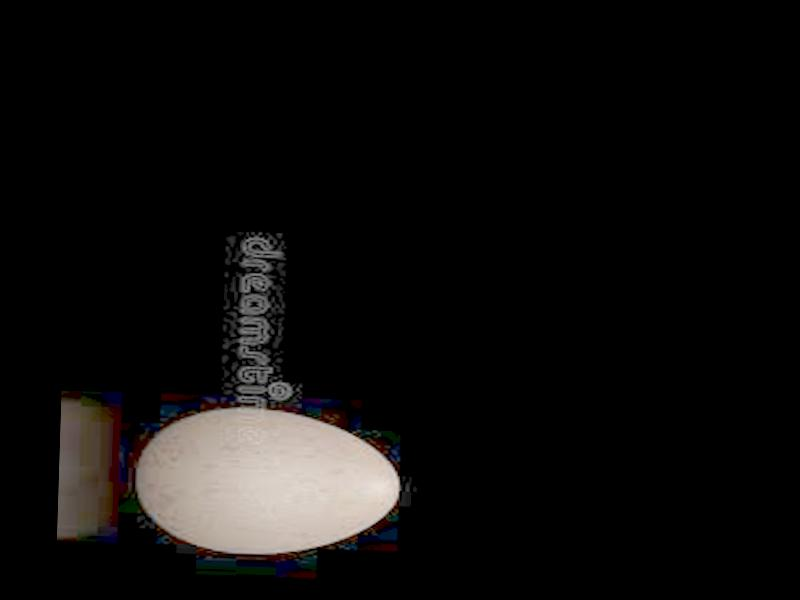Eggs: (133, 406, 403, 558)
